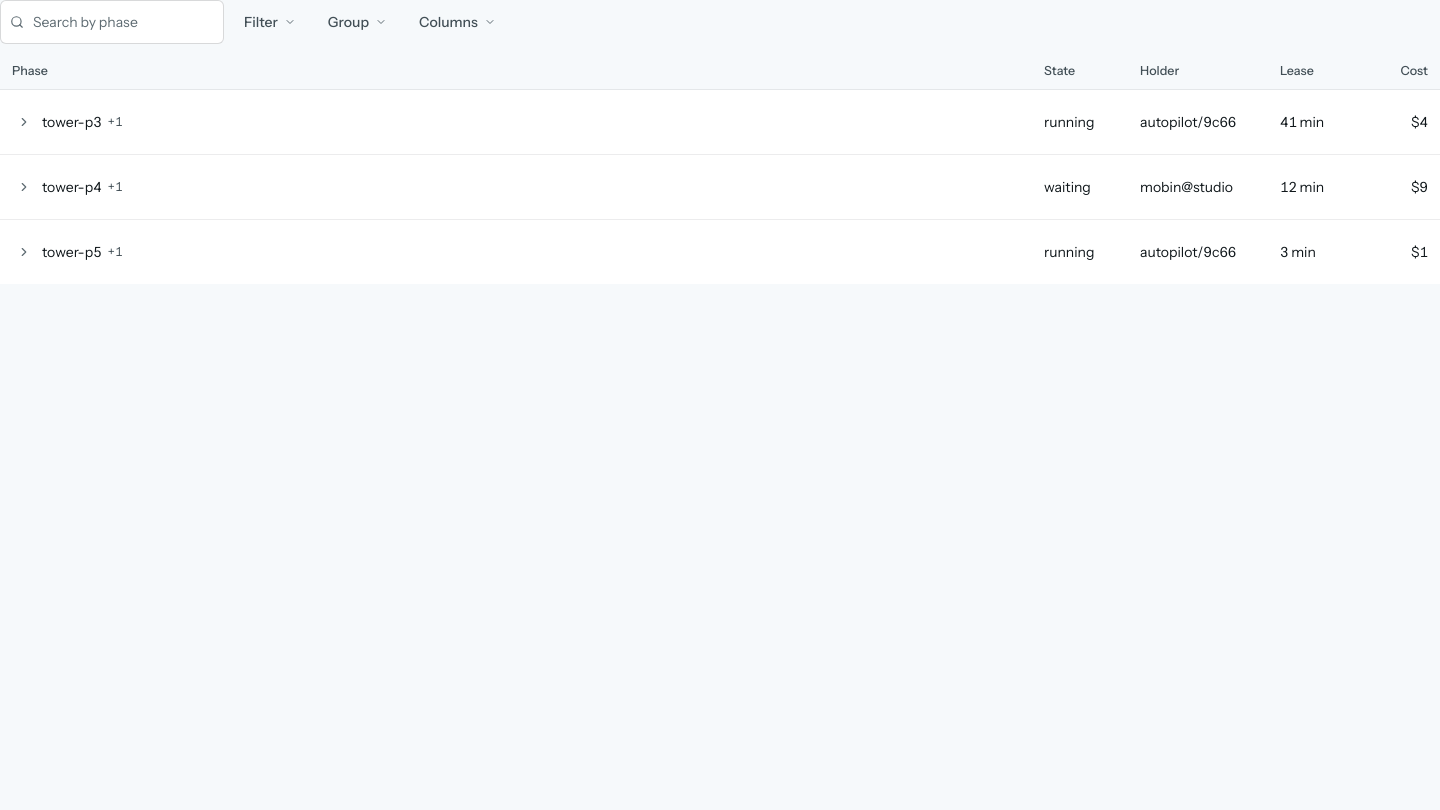
Scenario: a hidden column folds into the row’s detail › leaves the header, is counted, and is one press away under its head
Click the button "Columns" at point(457, 22), box 407,0 -> 508,44
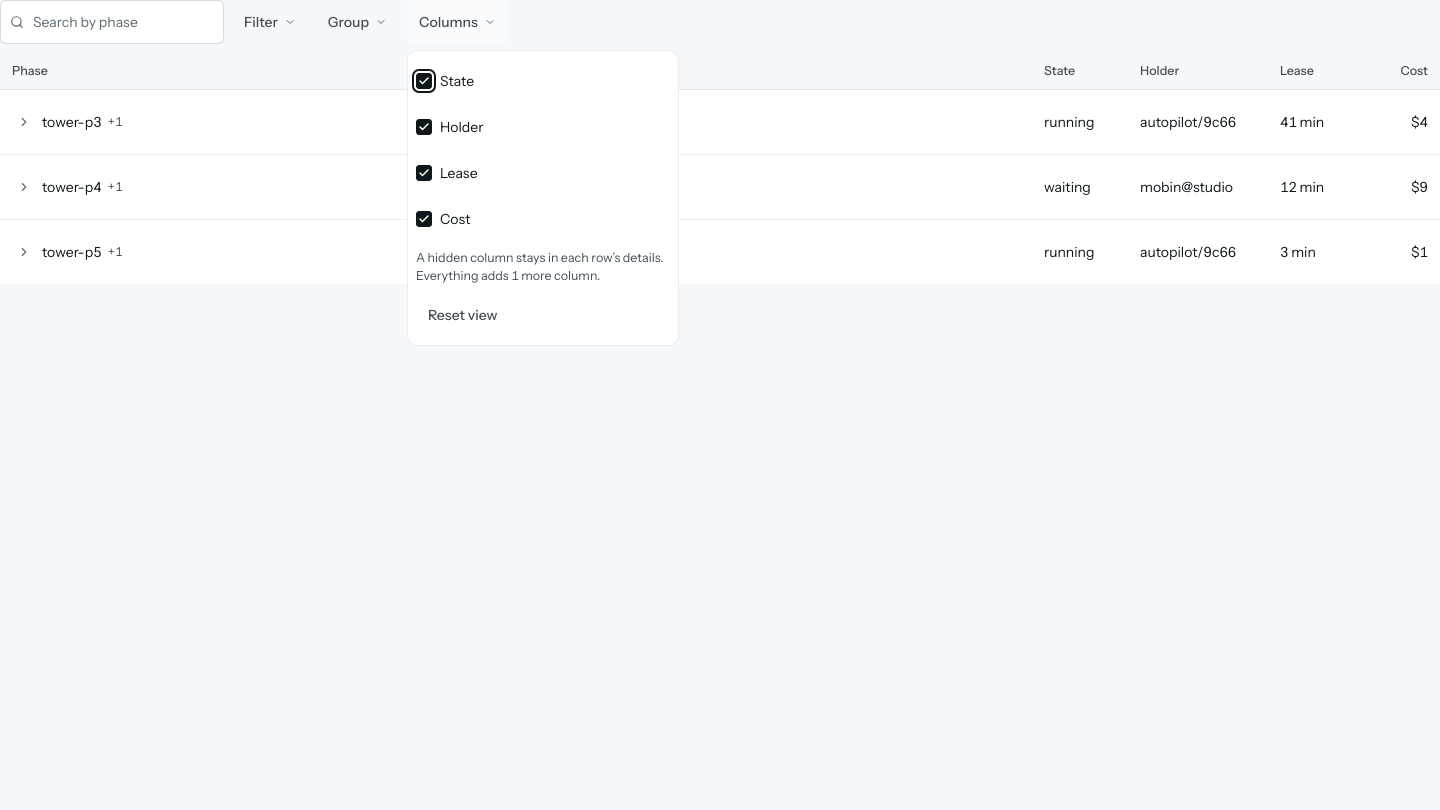
Click the 2nd checkbox named "Holder" at point(424, 127), box 416,119 -> 432,135
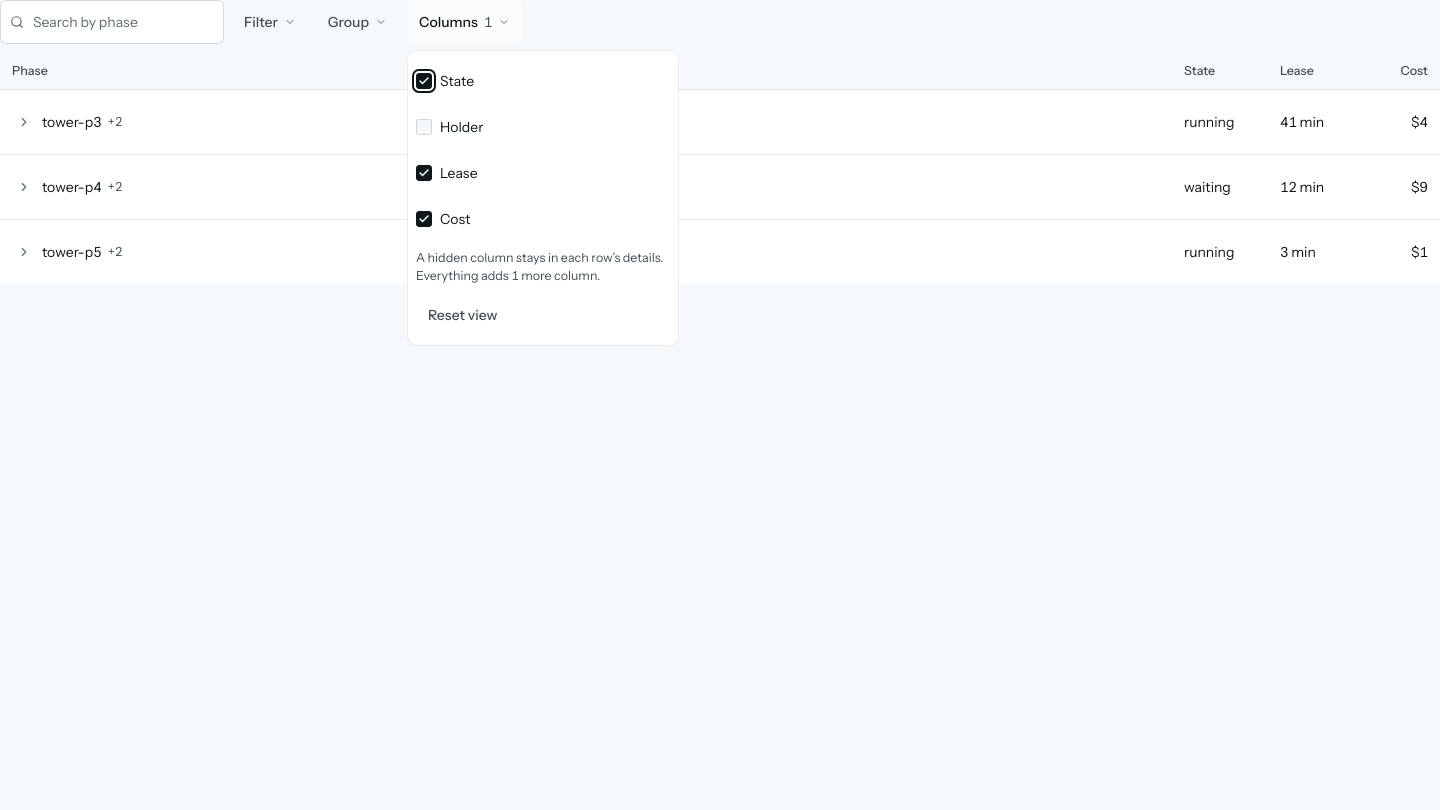
Result: the checkbox named "Holder" next to "Holder" is not checked at 416,119 -> 432,135
Press Escape in the dialog named "Columns", box 407,50 -> 679,346
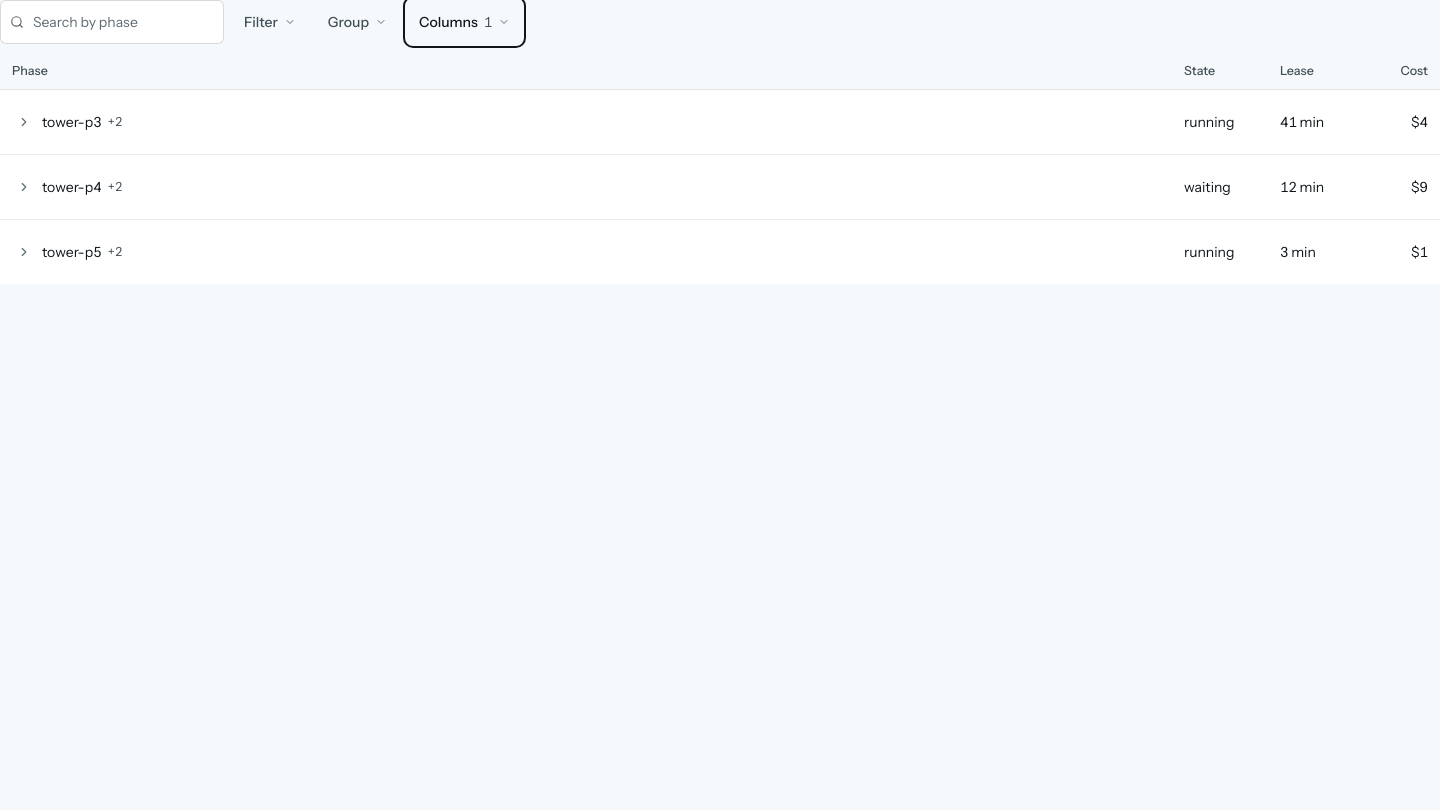
Result: the dialog is gone
Click the button named "the rest of this row" next to "tower-p3" at point(24, 122), box 12,100 -> 36,144
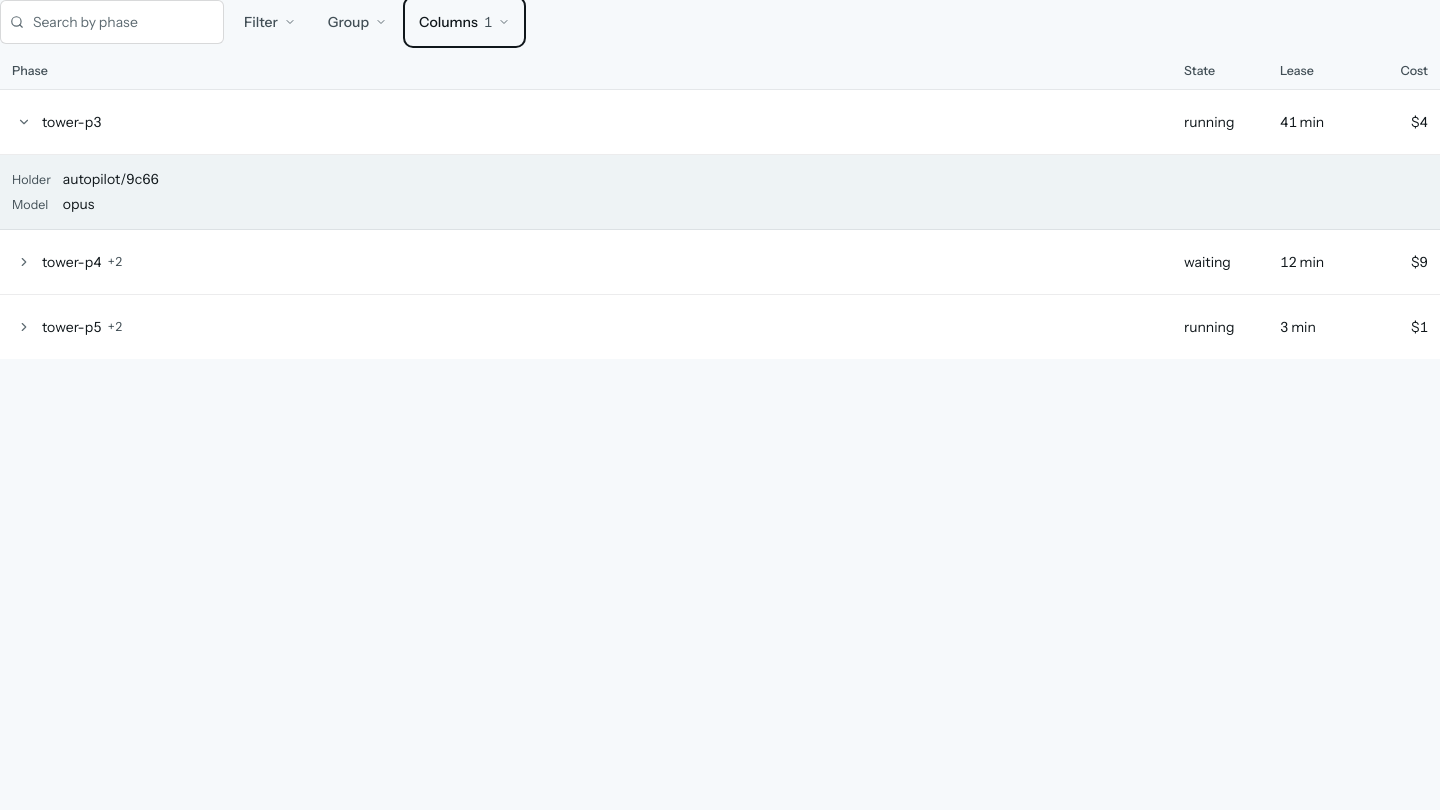
Result: the text "Holder" is shown at 12,171 -> 51,189
Result: the text "autopilot/9c66" is shown at 63,170 -> 159,188
